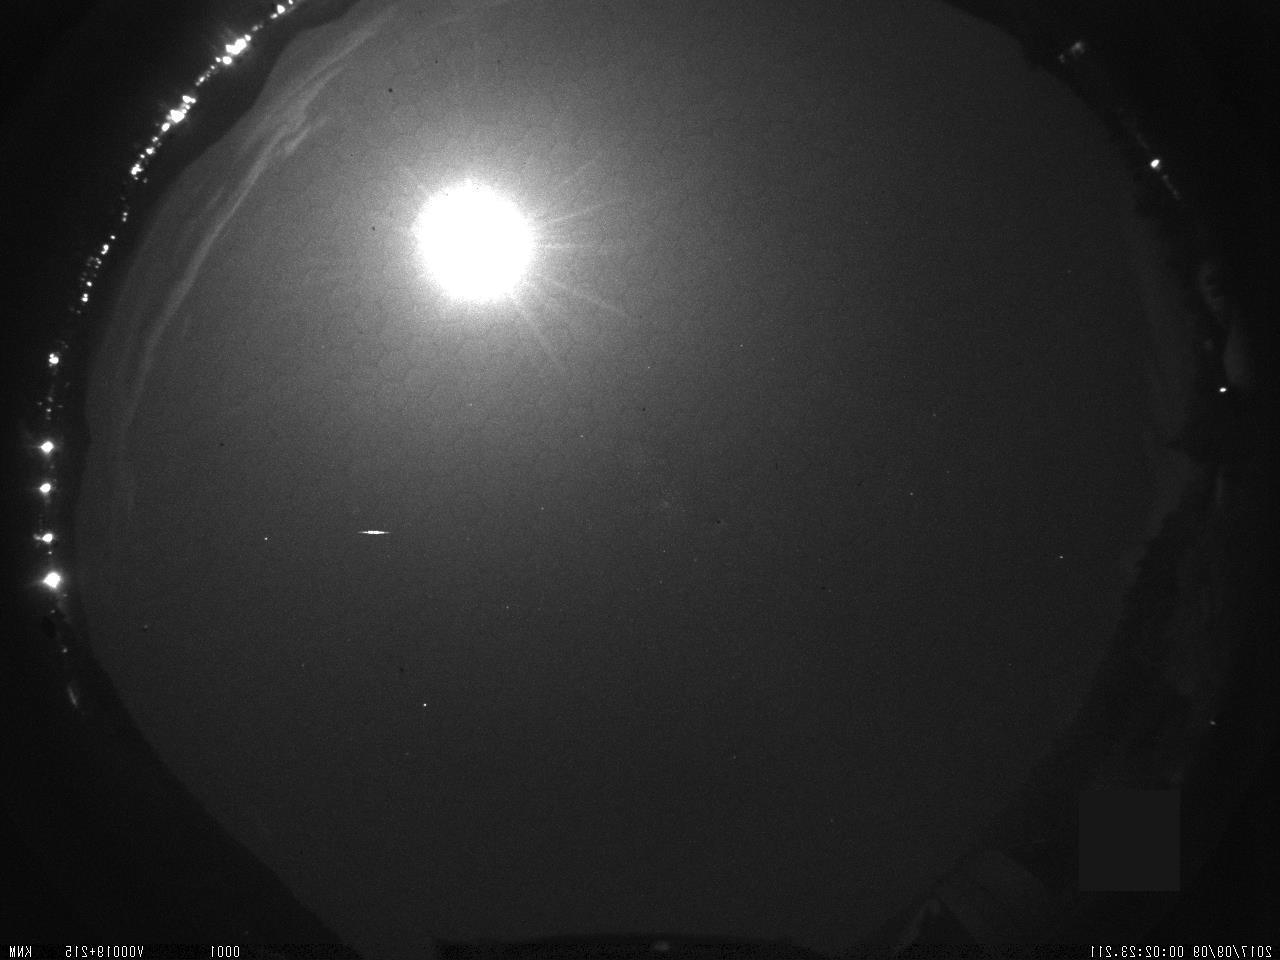meteor: (349, 517, 398, 546)
